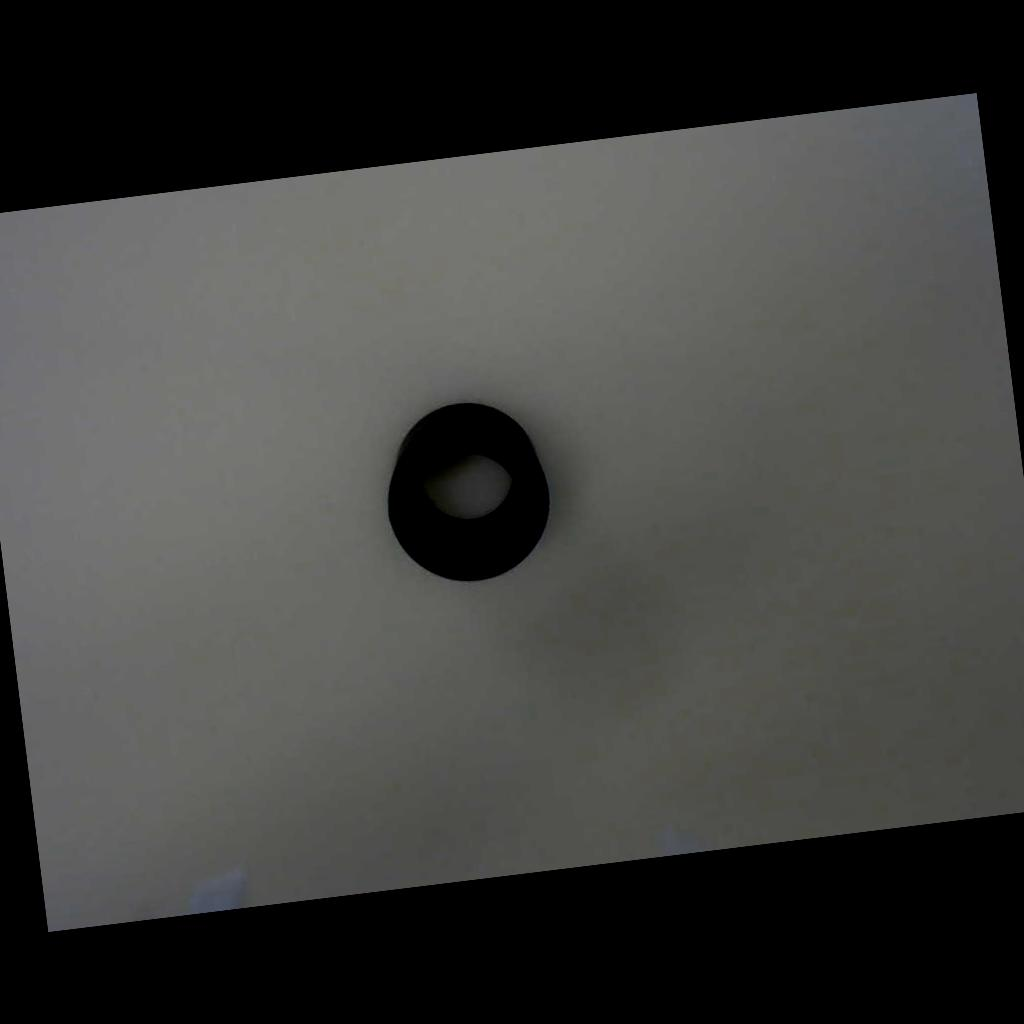ring: (377, 390, 558, 586)
